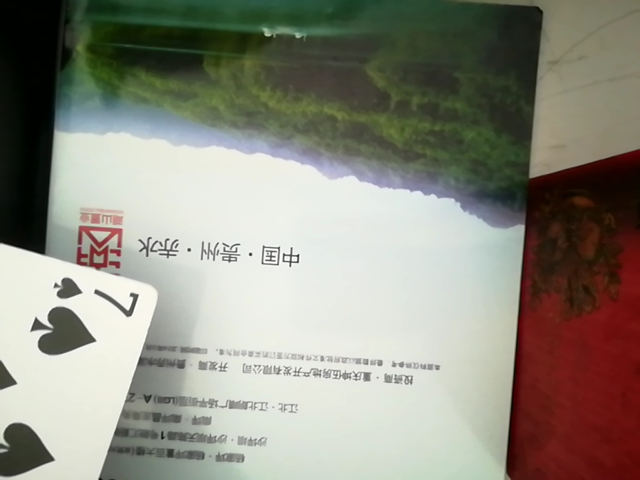ht 7: (0, 201, 159, 475)
